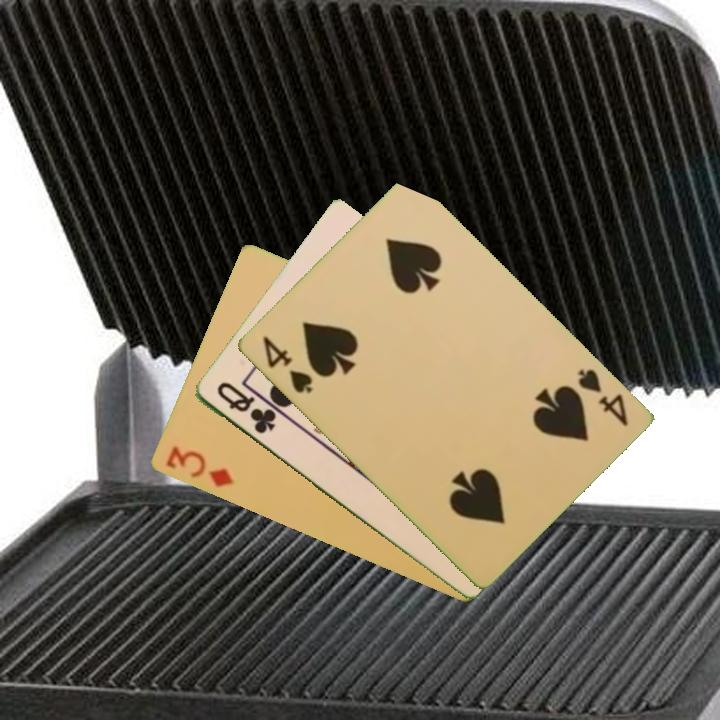3d: (161, 442, 236, 491)
4s: (258, 332, 315, 397), (573, 365, 630, 430)
Qc: (212, 378, 279, 437)
